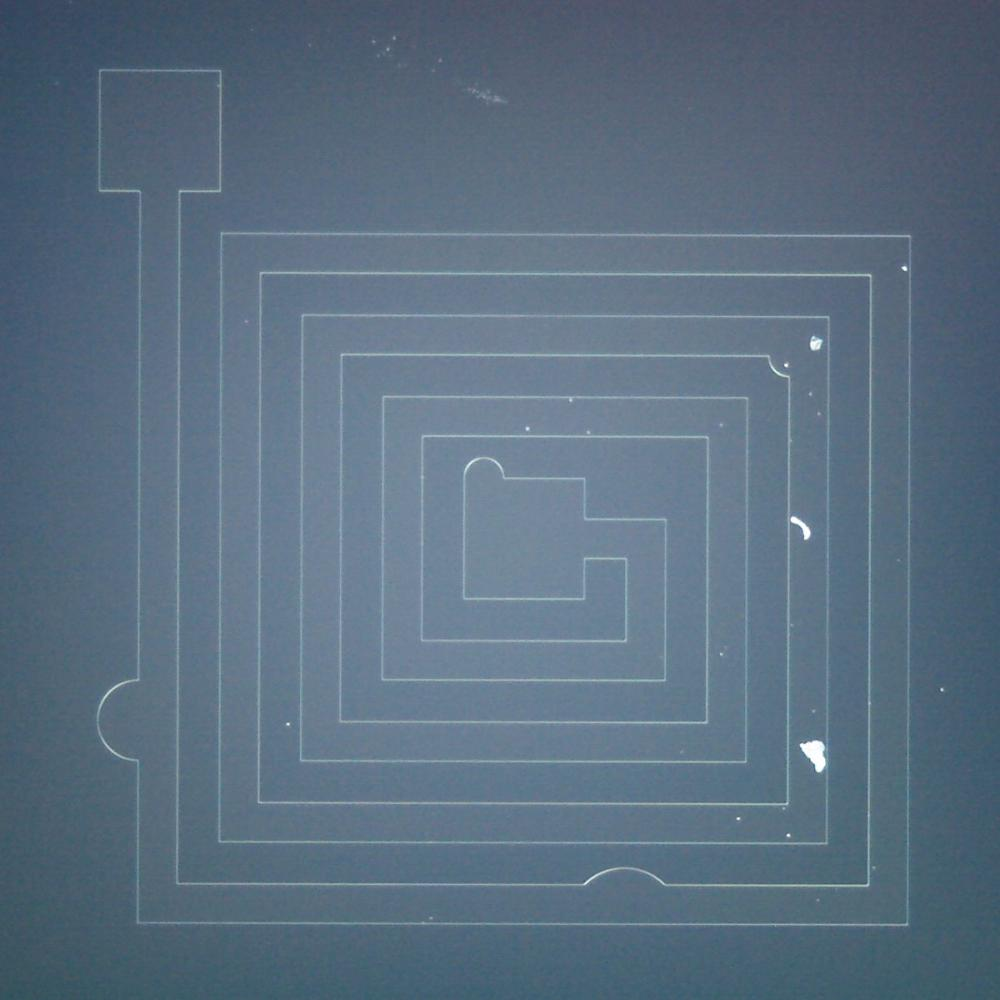Bdot: (796, 739, 826, 767)
curve: (791, 517, 810, 537)
dot: (808, 335, 824, 352), (902, 266, 908, 272), (784, 363, 788, 368), (392, 36, 396, 41), (808, 392, 812, 396), (817, 412, 821, 416), (372, 40, 376, 44), (719, 424, 723, 428), (587, 430, 591, 434), (386, 48, 390, 52), (719, 652, 723, 656), (940, 688, 944, 692), (787, 833, 790, 837), (287, 722, 290, 726), (737, 817, 740, 821), (526, 427, 529, 430)
